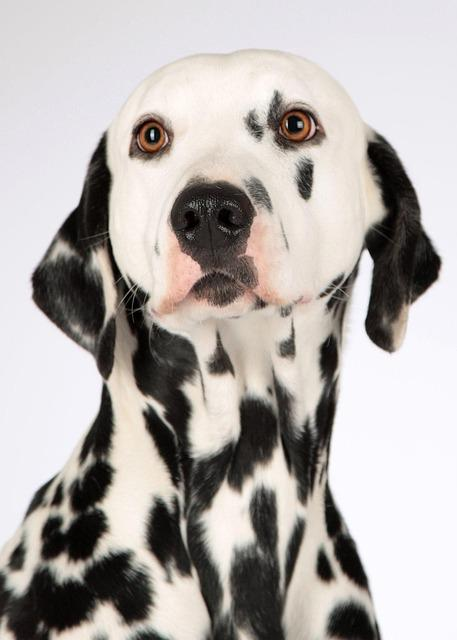Non_Gorille: (5, 31, 456, 640)
